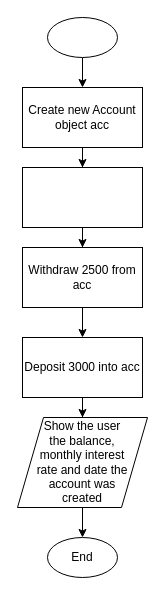
Image size: 165x595. Some labels were removed from this diagram. Here are the shapes that lost their labels. From the top down, the centre of each, then its label:
point (82, 37): Start
point (82, 197): Set the annual interest rate for acc to 4.5
